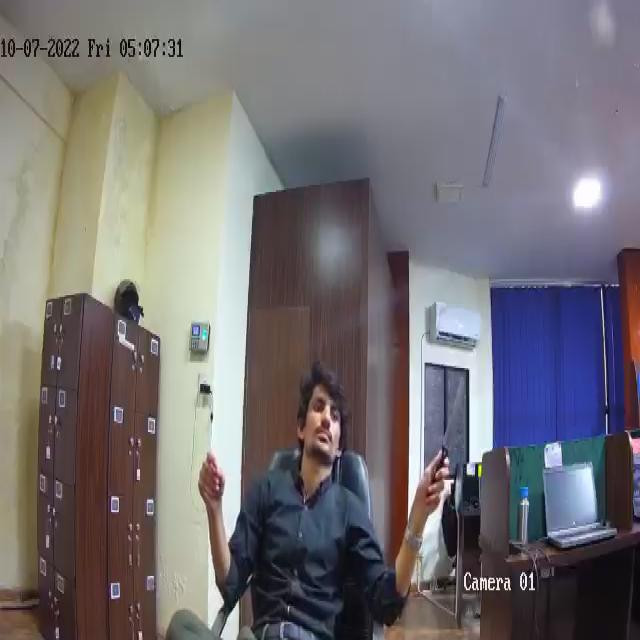Knife: (428, 380, 464, 486)
